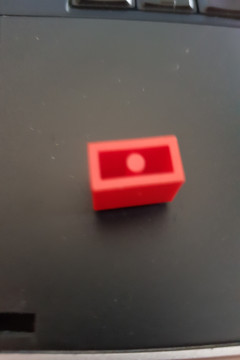1x2 red: (84, 134, 183, 212)
